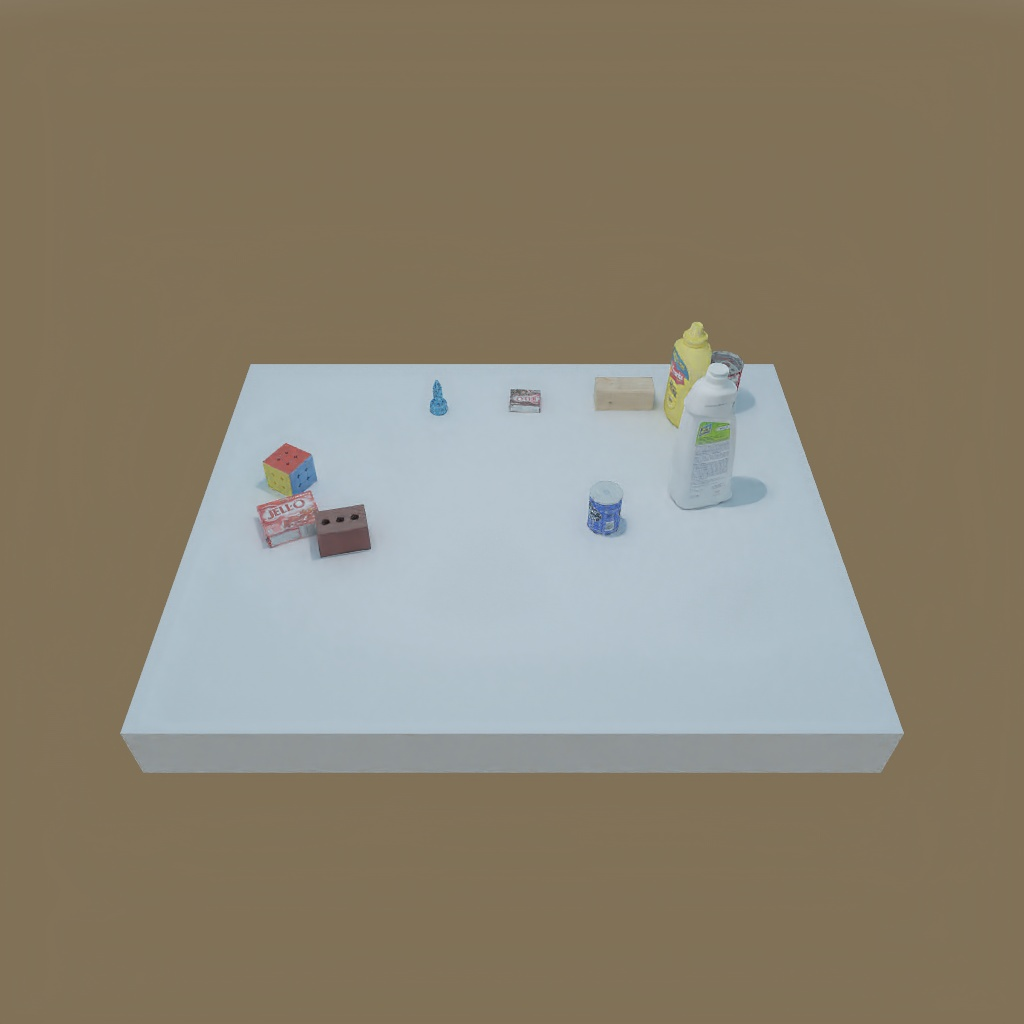gelatin_box: (255, 496, 324, 546)
master_chef_can: (585, 481, 626, 546)
mustard_bottle: (661, 323, 713, 428)
pudding_box: (507, 386, 544, 413)
rubiks_cube: (259, 442, 318, 497)
tomato_soup_can: (712, 351, 744, 389)
wood_block: (589, 371, 663, 415)
